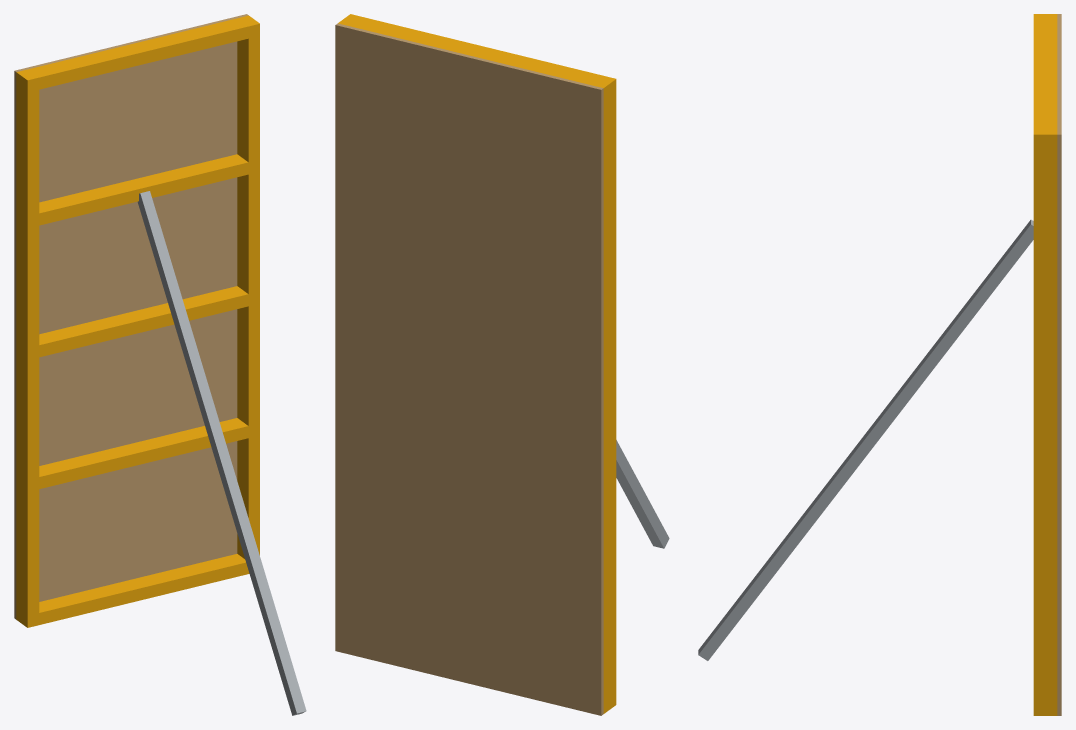
The model's file is plant.temporary.formwork_panel.glb.
3 renders of one model, left to right at view 1: azimuth 30°, elevation 25°; view 2: azimuth 150°, elevation 25°; view 3: azimuth 270°, elevation 25°, orthographic. The views are drawn at different scales.
Visible parts, largest first — view 1: main__plywood, main__plant_yellow, main__steel_galvanised; view 2: main__plywood, main__plant_yellow, main__steel_galvanised; view 3: main__plant_yellow, main__steel_galvanised, main__plywood.
Boxes of the visible parts, x1,y1,x2,y2 form: main__plywood: (14,14,248,619); main__plant_yellow: (16,15,259,627); main__steel_galvanised: (137,191,306,715); main__plywood: (335,23,603,715); main__plant_yellow: (338,14,616,713); main__steel_galvanised: (616,440,669,548); main__plant_yellow: (1033,14,1057,715); main__steel_galvanised: (698,219,1033,660); main__plywood: (1057,14,1061,715).
Bounding box in the file's own units: 1.2 × 2.71 × 1.53.
